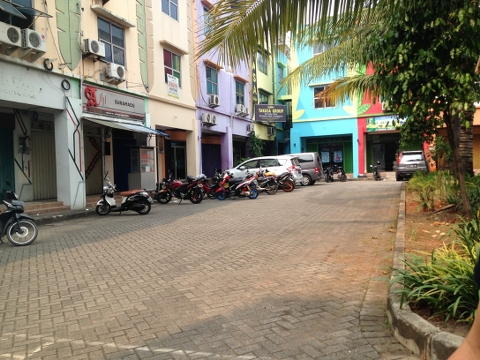mobil: (225, 156, 304, 187), (396, 150, 429, 181)
